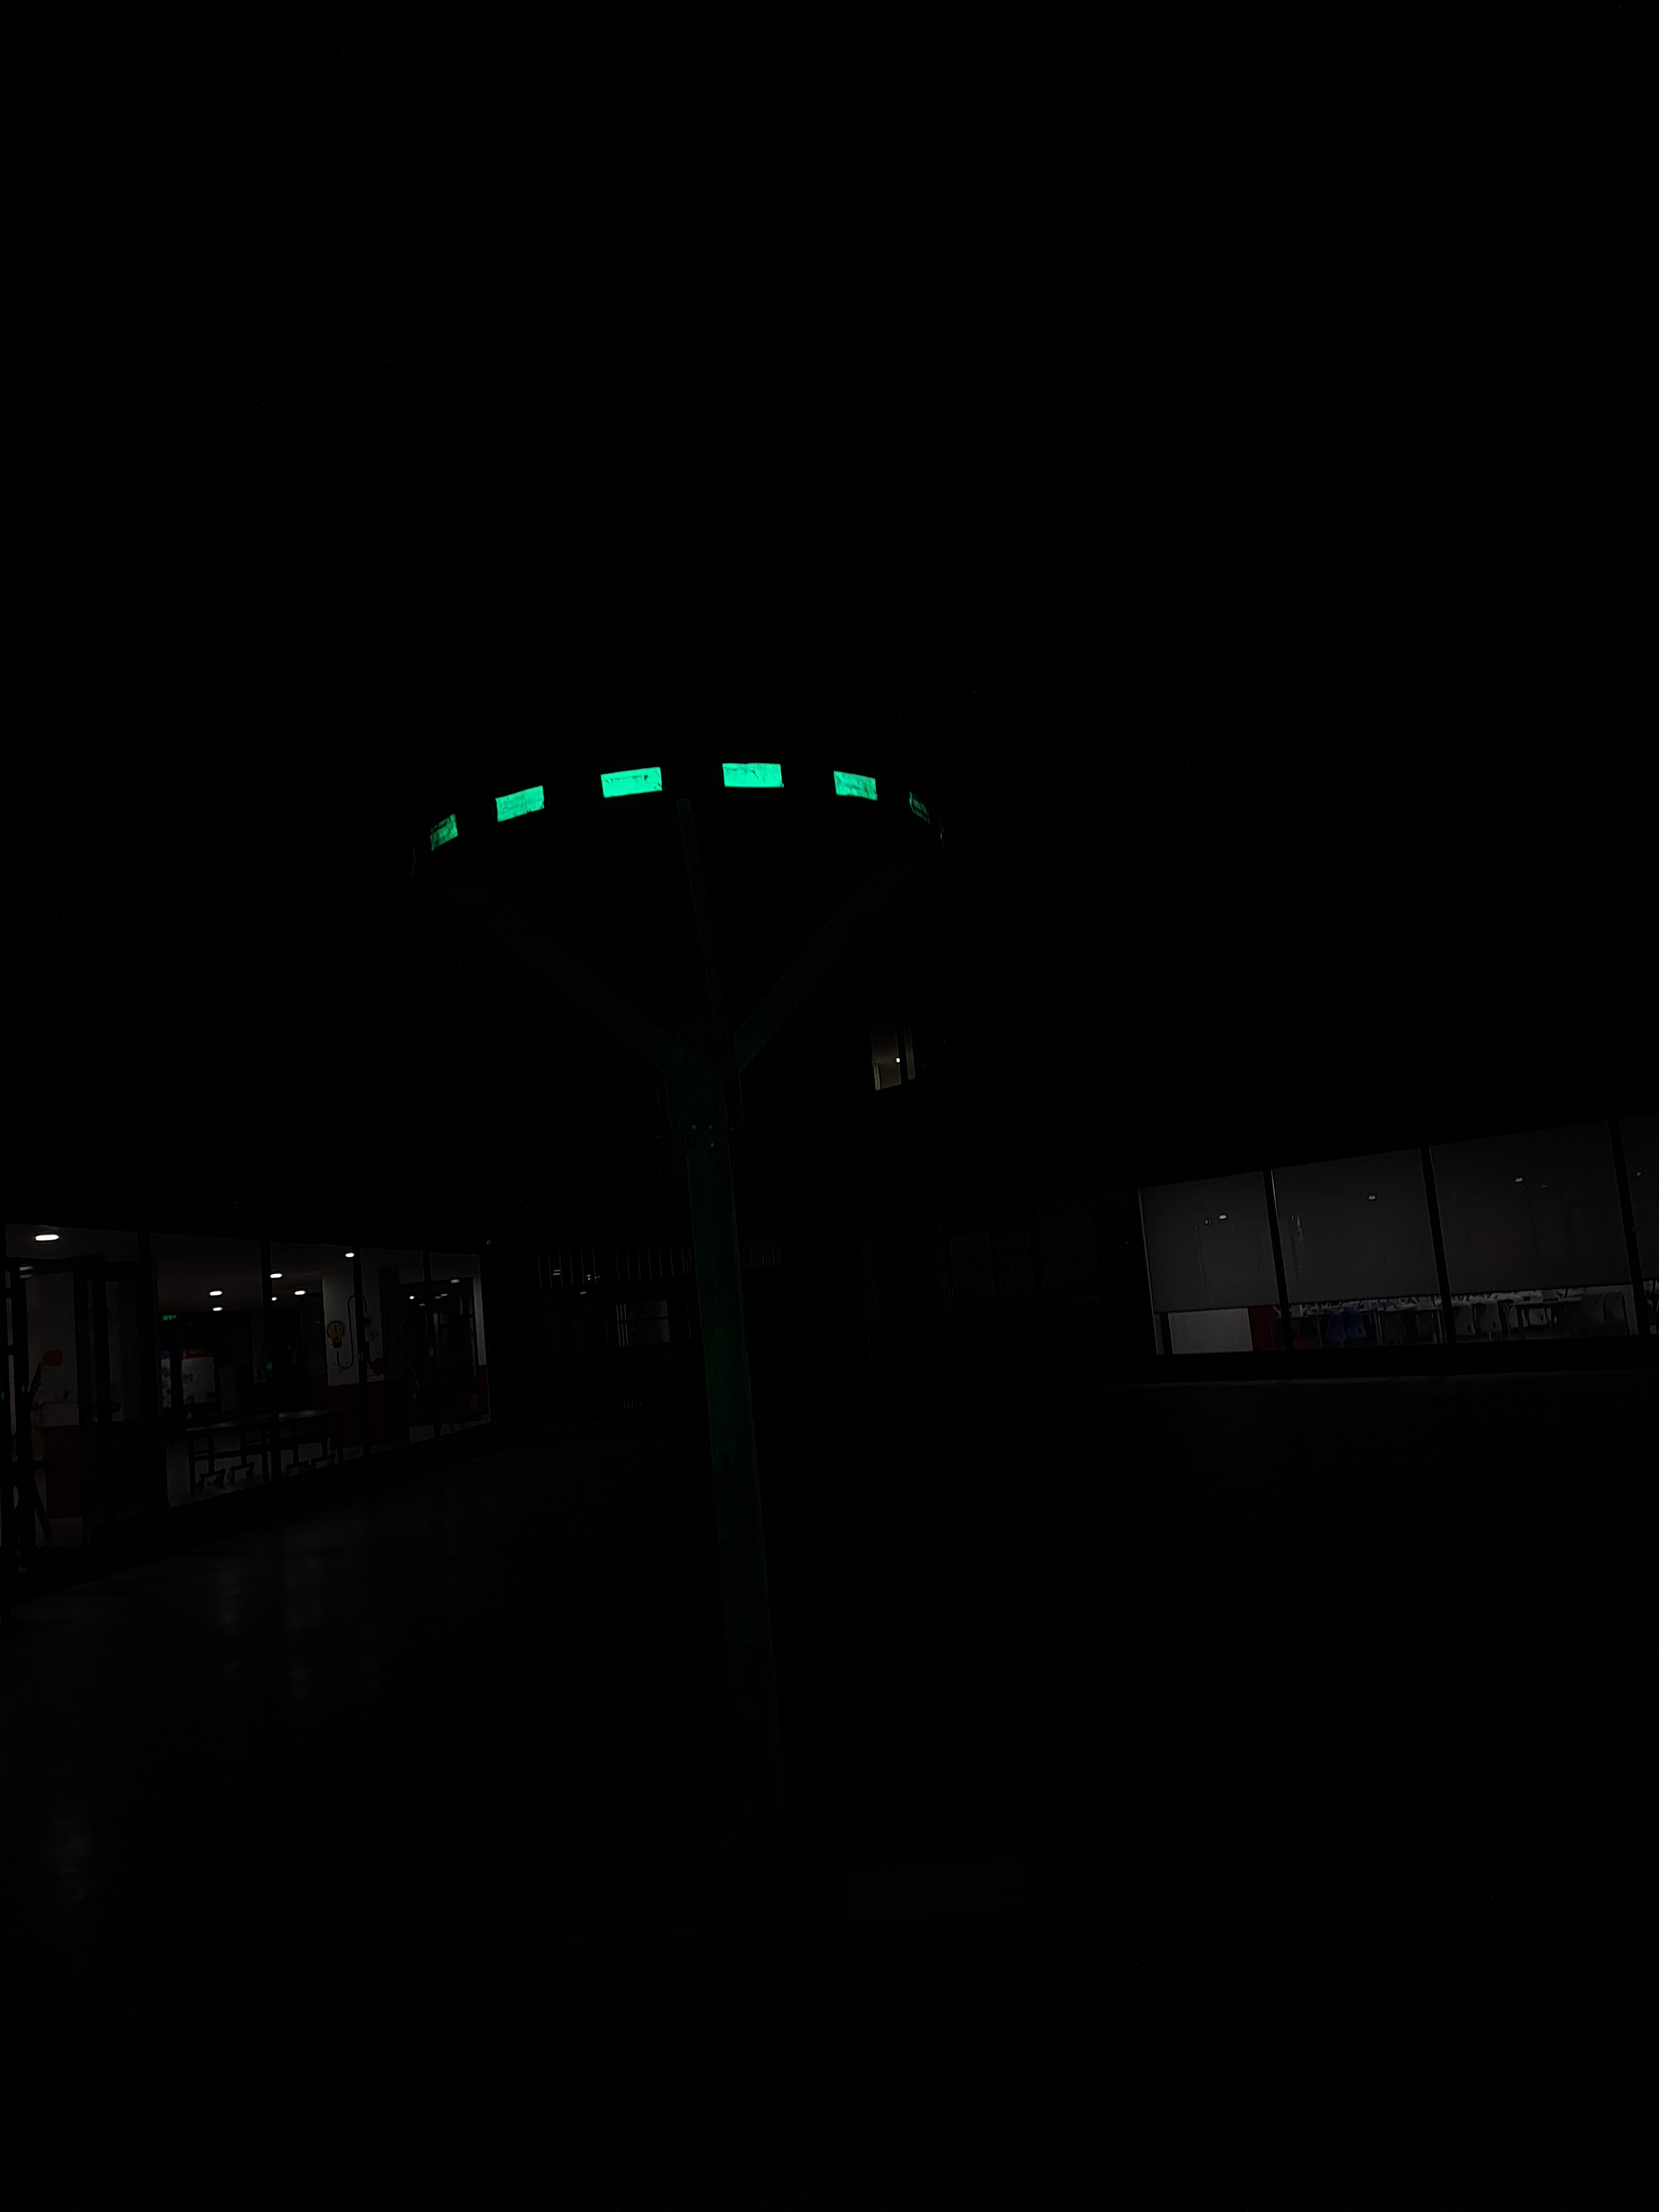hoop: (427, 758, 890, 855)
